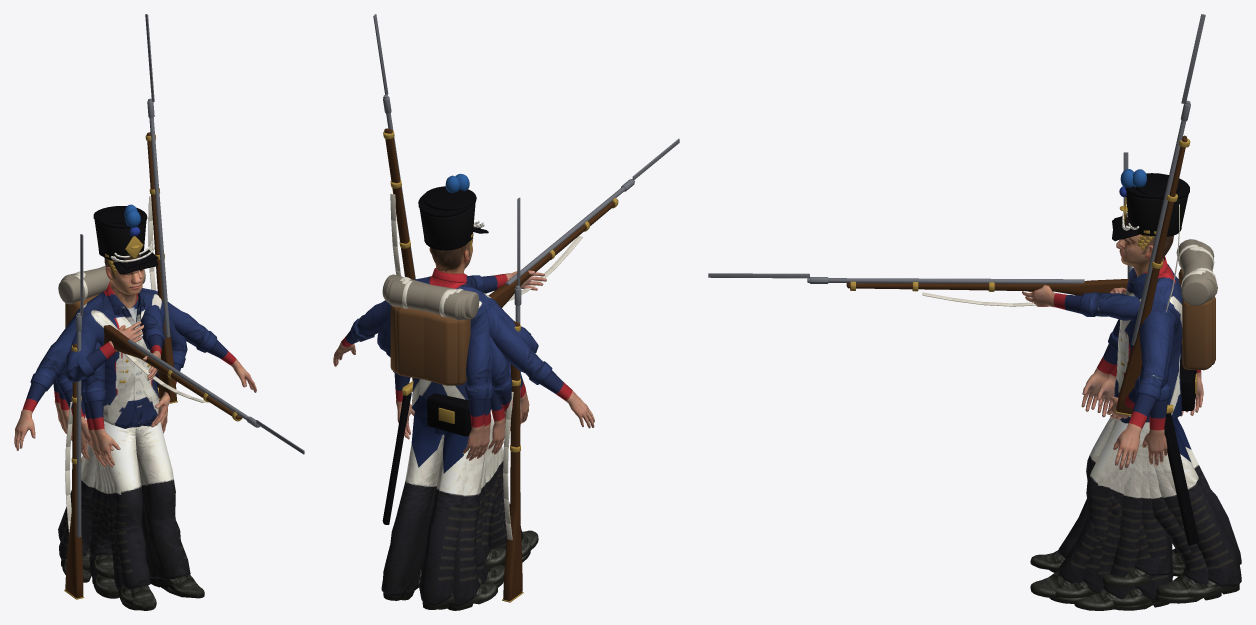
Rendered from fusilier.glb.
3 renders of one model, left to right at view 1: azimuth 30°, elevation 25°; view 2: azimuth 150°, elevation 25°; view 3: azimuth 270°, elevation 25°, orthographic. The views are drawn at different scales.
Parts seen in each view (by area): view 1: present, march2, march6, rest, order, march5, march1, shouldered, march4, march0, march3, march7; view 2: present, march6, march2, rest, order, shouldered, march5, march4, march7, march1, march0; view 3: present, march6, march2, rest, march1, shouldered, march5, march7, order, march0, march3, march4.
Part boxes in pixels (<box>): present: <box>58,204,304,588</box>; march2: <box>58,206,204,598</box>; march6: <box>53,206,187,610</box>; rest: <box>14,208,256,598</box>; order: <box>56,234,167,599</box>; march5: <box>55,210,182,605</box>; march1: <box>62,207,181,575</box>; shouldered: <box>76,14,182,459</box>; march4: <box>89,396,159,578</box>; march0: <box>91,406,163,595</box>; march3: <box>82,395,188,597</box>; march7: <box>101,257,158,610</box>; present: <box>388,138,679,610</box>; march6: <box>377,174,538,600</box>; march2: <box>377,173,529,609</box>; rest: <box>333,174,594,587</box>; order: <box>393,197,523,602</box>; shouldered: <box>373,14,505,454</box>; march5: <box>377,174,531,600</box>; march4: <box>437,420,505,568</box>; march7: <box>407,416,530,589</box>; march1: <box>377,174,522,609</box>; march0: <box>482,442,504,584</box>; present: <box>708,169,1217,610</box>; march6: <box>1030,169,1241,597</box>; march2: <box>1030,170,1241,597</box>; rest: <box>1113,170,1211,610</box>; march1: <box>1054,170,1213,598</box>; shouldered: <box>1113,14,1205,418</box>; march5: <box>1086,169,1221,603</box>; march7: <box>1049,392,1209,597</box>; order: <box>1114,152,1172,610</box>; march0: <box>1097,419,1170,586</box>; march3: <box>1049,390,1184,603</box>; march4: <box>1107,418,1158,606</box>.
Bounding box in the file's own units: 1.35 × 2.88 × 2.31.
15 materials, 3 textured.
